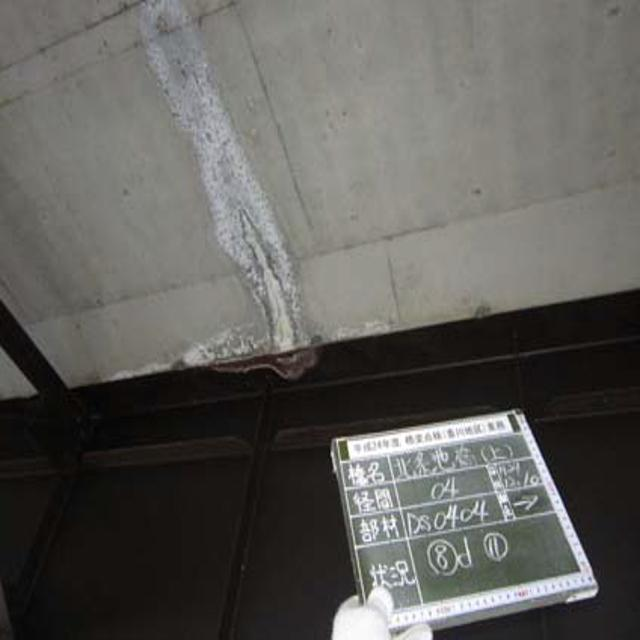freelime: (136, 10, 318, 369)
